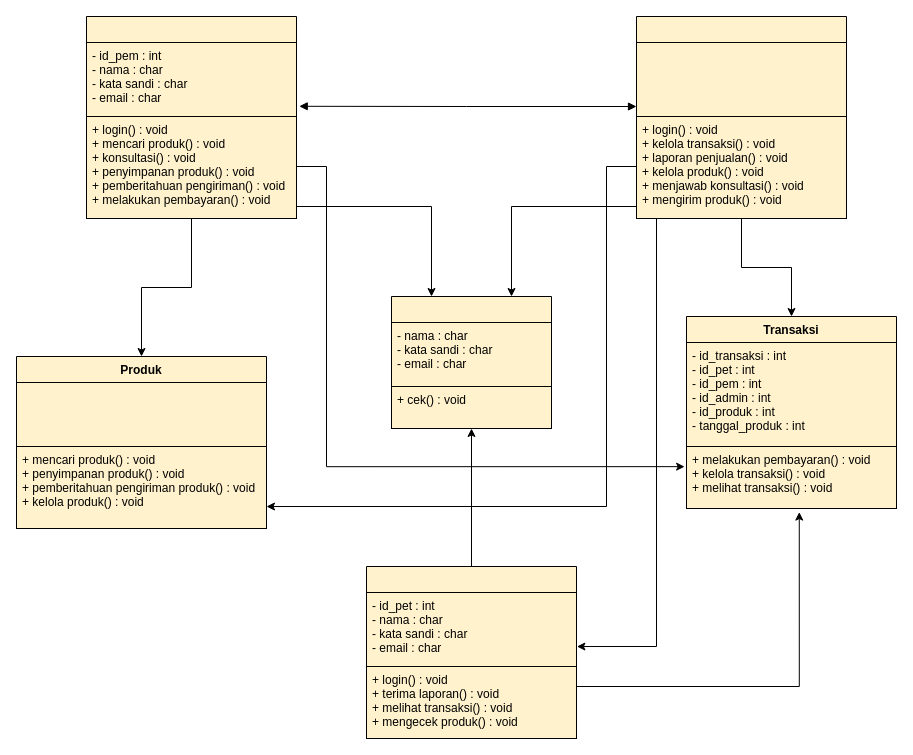
This 913x755 diagram has some shape labels left out. Each missing label, with the box of its shape:
- id_ad : int - nama : char - kata sandi : char - email : char: (636, 42, 846, 116)
- id_produk : int - nama : char - harga_produk : int: (16, 382, 266, 446)
Admin: (636, 16, 846, 218)
Customer: (86, 16, 296, 218)
Login: (390, 296, 552, 428)
Pemilik Toko: (366, 566, 576, 738)
